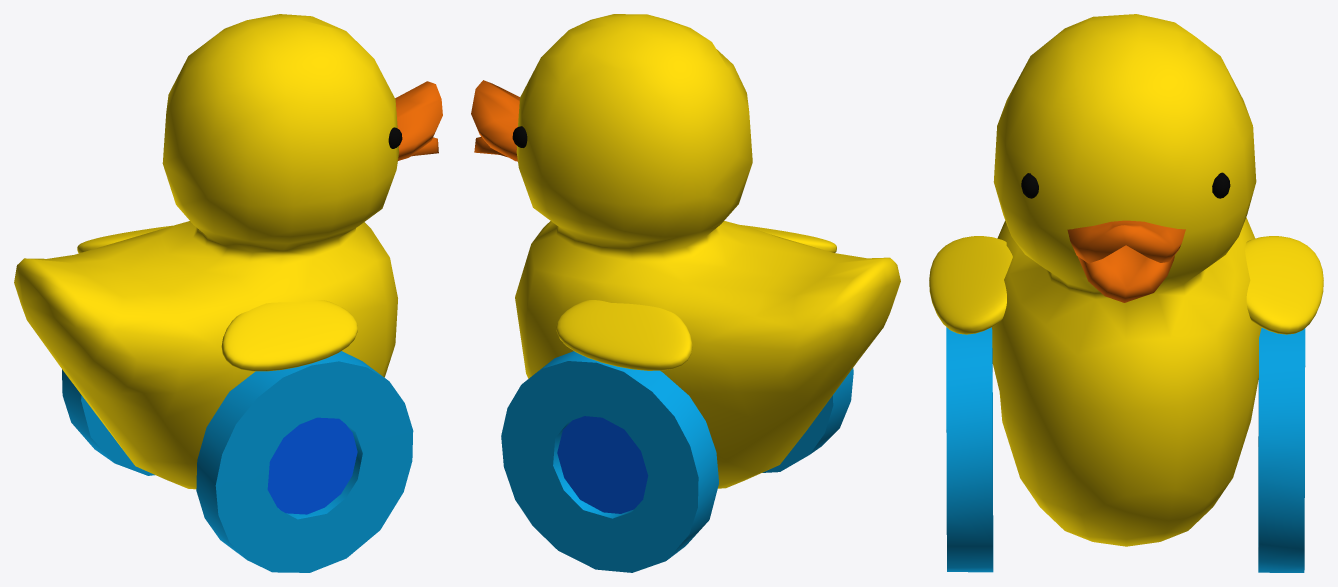
File: DuckToy2.fbx
3 renders of one model, left to right at view 1: azimuth 30°, elevation 25°; view 2: azimuth 150°, elevation 25°; view 3: azimuth 270°, elevation 25°, orthographic. The views are drawn at different scales.
Visible parts, largest first — view 1: Duck, R_Wheel, Wing, TopBeak, R_Wheel.001; view 2: Duck, R_Wheel.001, Wing, TopBeak, R_Wheel; view 3: Duck, Wing, R_Wheel, R_Wheel.001, TopBeak, BottomBeak, Eyes.
Boxes of the visible parts, x1,y1,x2,y2 form: Duck: (14, 14, 398, 489); R_Wheel: (196, 351, 413, 572); Wing: (77, 225, 357, 371); TopBeak: (395, 81, 442, 160); R_Wheel.001: (62, 369, 154, 475); Duck: (515, 14, 900, 488); R_Wheel.001: (501, 351, 718, 572); Wing: (556, 225, 836, 370); TopBeak: (471, 80, 519, 161); R_Wheel: (762, 368, 853, 472); Duck: (992, 14, 1261, 546); Wing: (929, 236, 1323, 334); R_Wheel: (946, 327, 993, 572); R_Wheel.001: (1258, 328, 1305, 572); TopBeak: (1067, 220, 1185, 263); BottomBeak: (1077, 245, 1174, 302); Eyes: (1021, 172, 1230, 198).
Bounding box in the file's own units: 364 × 411 × 265.
